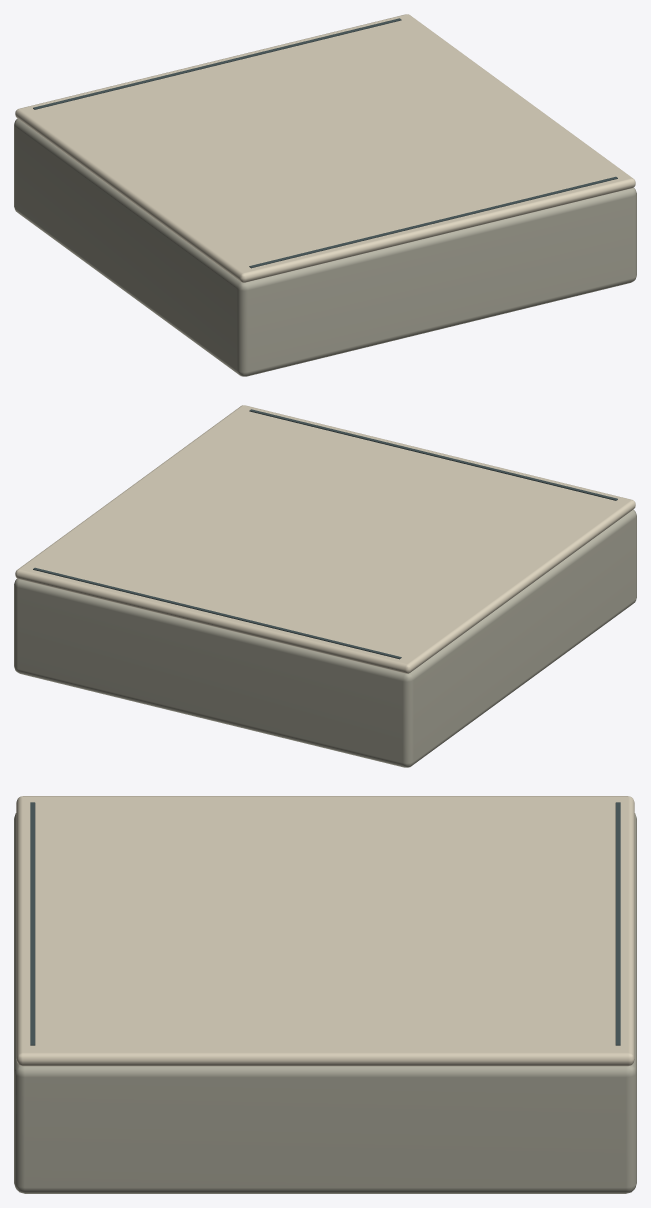
The model's file is corridor-roof-2m.glb.
3 renders of one model, top to bottom at view 1: azimuth 30°, elevation 25°; view 2: azimuth 150°, elevation 25°; view 3: azimuth 270°, elevation 25°, orthographic. The views are drawn at different scales.
Visible parts, largest first — view 1: corridor-roof-2m / 01 • warm porcelain paint, corridor-roof-2m / 02 • inner shell, corridor-roof-2m / 06 • dark anodized frame; view 2: corridor-roof-2m / 01 • warm porcelain paint, corridor-roof-2m / 02 • inner shell, corridor-roof-2m / 06 • dark anodized frame; view 3: corridor-roof-2m / 01 • warm porcelain paint, corridor-roof-2m / 02 • inner shell, corridor-roof-2m / 06 • dark anodized frame.
Part boxes in pixels (x1,y1,x2,y2): corridor-roof-2m / 01 • warm porcelain paint: (15, 14, 635, 282); corridor-roof-2m / 02 • inner shell: (14, 118, 636, 376); corridor-roof-2m / 06 • dark anodized frame: (33, 18, 617, 268); corridor-roof-2m / 01 • warm porcelain paint: (15, 405, 635, 673); corridor-roof-2m / 02 • inner shell: (14, 509, 636, 767); corridor-roof-2m / 06 • dark anodized frame: (33, 409, 617, 659); corridor-roof-2m / 01 • warm porcelain paint: (16, 796, 634, 1066); corridor-roof-2m / 02 • inner shell: (14, 813, 636, 1193); corridor-roof-2m / 06 • dark anodized frame: (30, 802, 620, 1045).
Bounding box in the file's own units: 2 × 0.5495 × 2.
